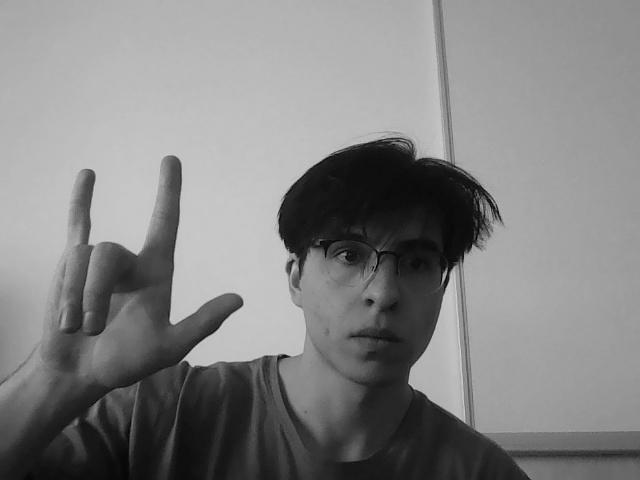I_Love_You: (54, 150, 250, 384)
